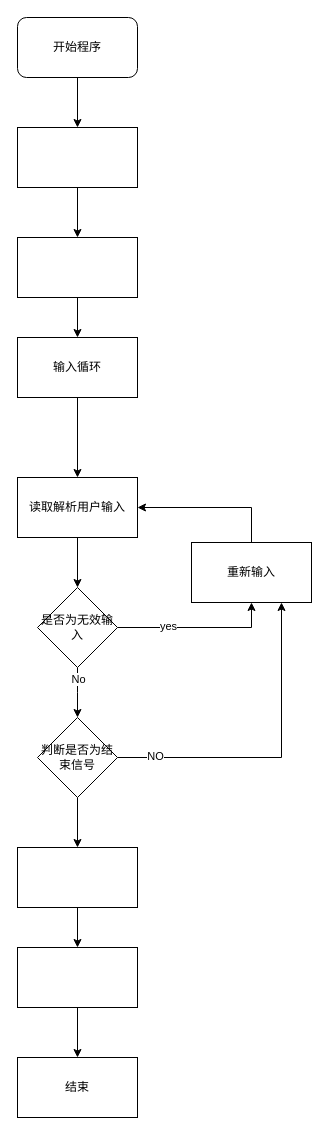
This 329x1135 diagram has some shape labels left out. The shapes that lost their labels are listed below. From the top down, each one's box as (x1, y1, x2, y2) in pixels, then its label:
(16, 126, 138, 188): 初始化numList切片
(16, 236, 138, 298): 提示输入三条边长（空格分隔，输入0 0 0 作为结束信号）
(16, 846, 138, 908): 添加到numlist中
(16, 946, 138, 1008): 循环判断三角形类型 并输出结果
